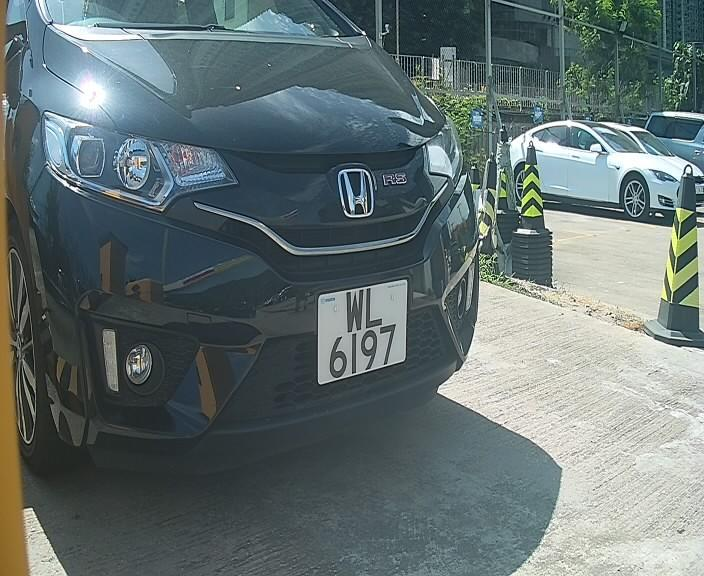privatecar: (1, 21, 510, 484)
